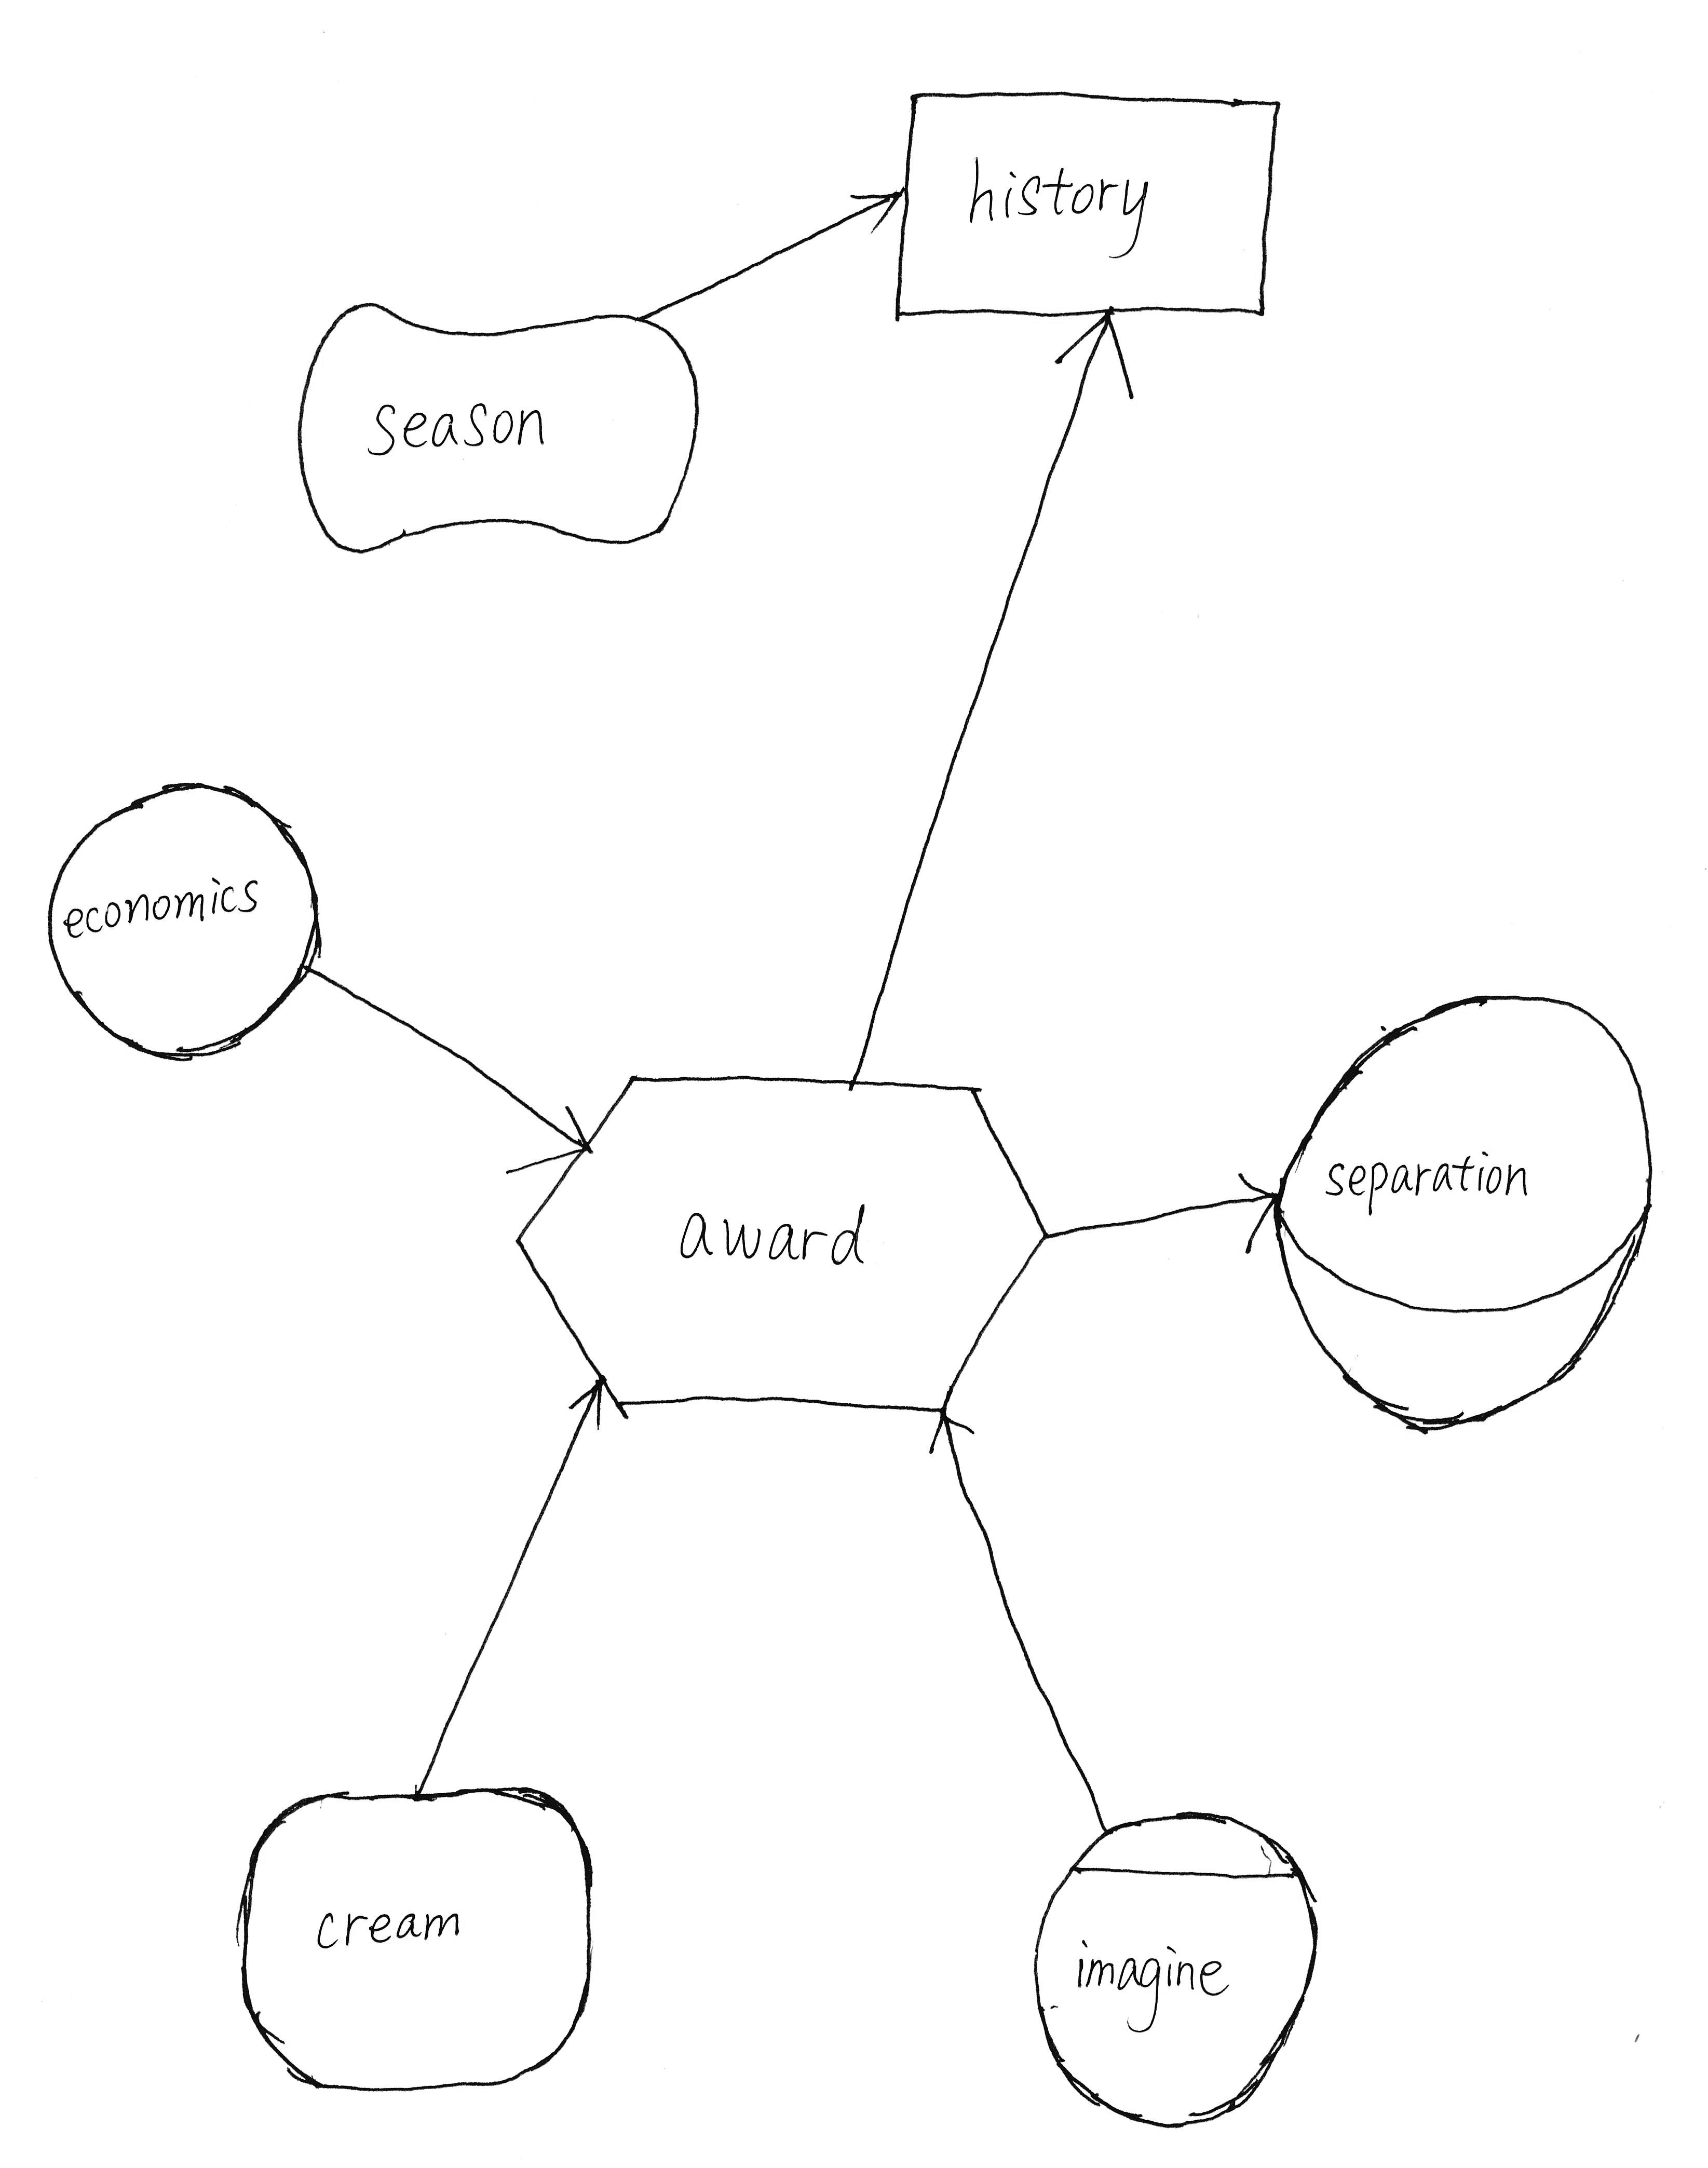actor: (32, 762, 350, 1066)
agent: (1251, 968, 1666, 1471), (1017, 1786, 1339, 2138)
arrow: (1029, 294, 1161, 428), (491, 1073, 616, 1195), (1221, 1153, 1316, 1265), (834, 157, 918, 264), (909, 1385, 996, 1480), (547, 1357, 637, 1447)
goal: (208, 1765, 619, 2110)
quality: (257, 290, 732, 567)
resource: (858, 62, 1300, 347)
task: (494, 1044, 1069, 1431)
